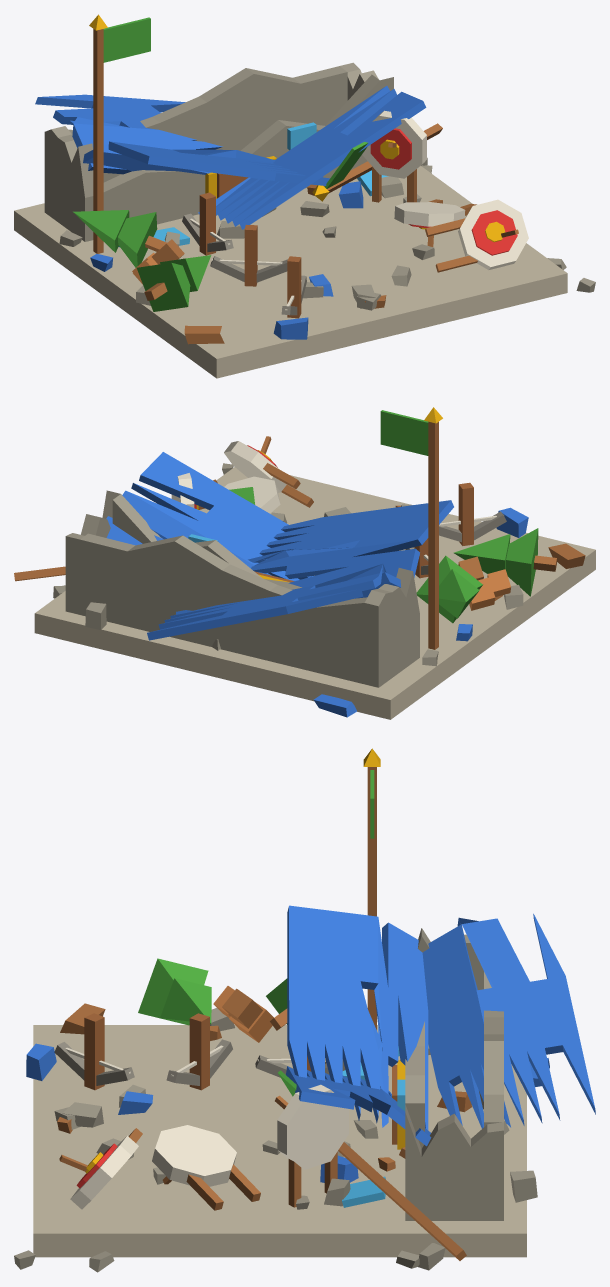
Rendered from archery_range_t3_v3_dmg2.glb.
3 views of the same model, one above another, from view 1: azimuth 30°, elevation 25°; view 2: azimuth 150°, elevation 25°; view 3: azimuth 270°, elevation 25° (orthographic). The views are drawn at different scales.
Visible parts, largest first — view 1: archery_range_t3_v3_dmg2; view 2: archery_range_t3_v3_dmg2; view 3: archery_range_t3_v3_dmg2.
Part boxes in pixels (x1,y1,x2,y2): archery_range_t3_v3_dmg2: (14, 14, 595, 378); archery_range_t3_v3_dmg2: (14, 407, 595, 719); archery_range_t3_v3_dmg2: (14, 748, 595, 1272).
Bounding box in the file's own units: 0.8898 × 0.525 × 0.8845.
1 material, 1 textured.
